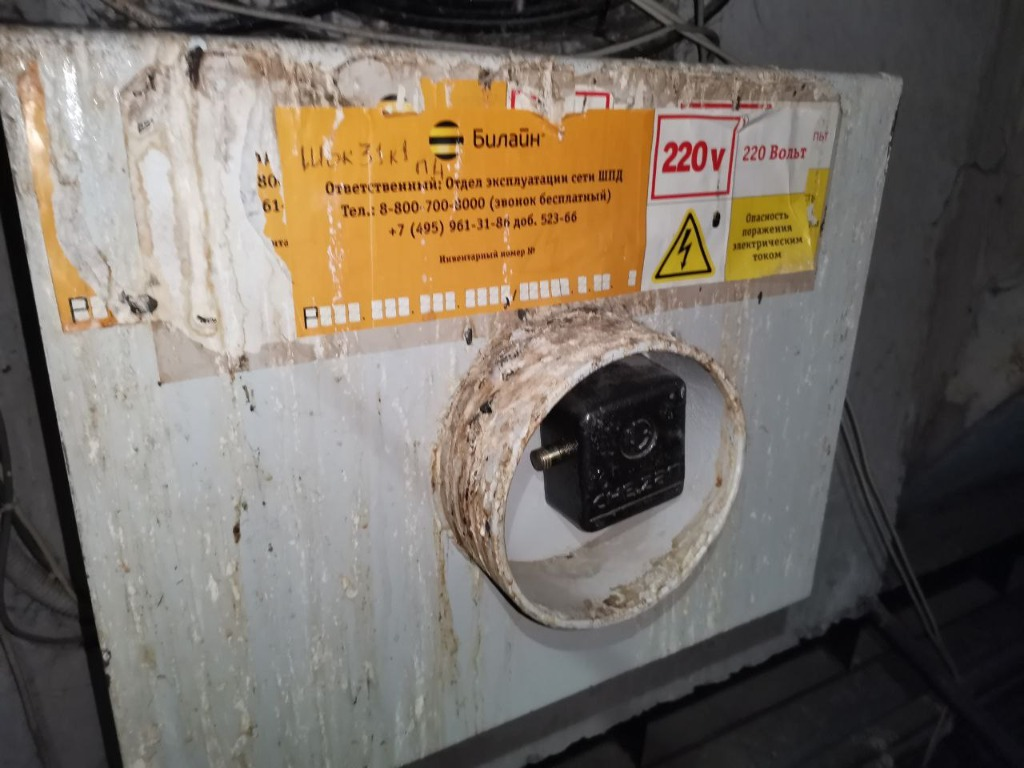shta-3: (4, 21, 911, 763)
